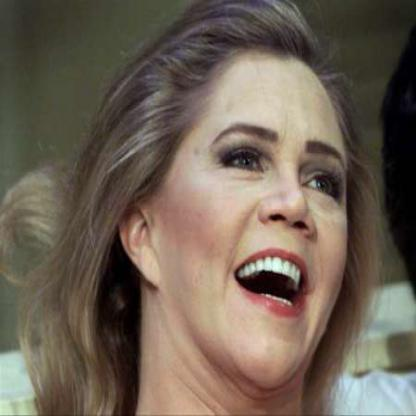face: (154, 4, 368, 389)
